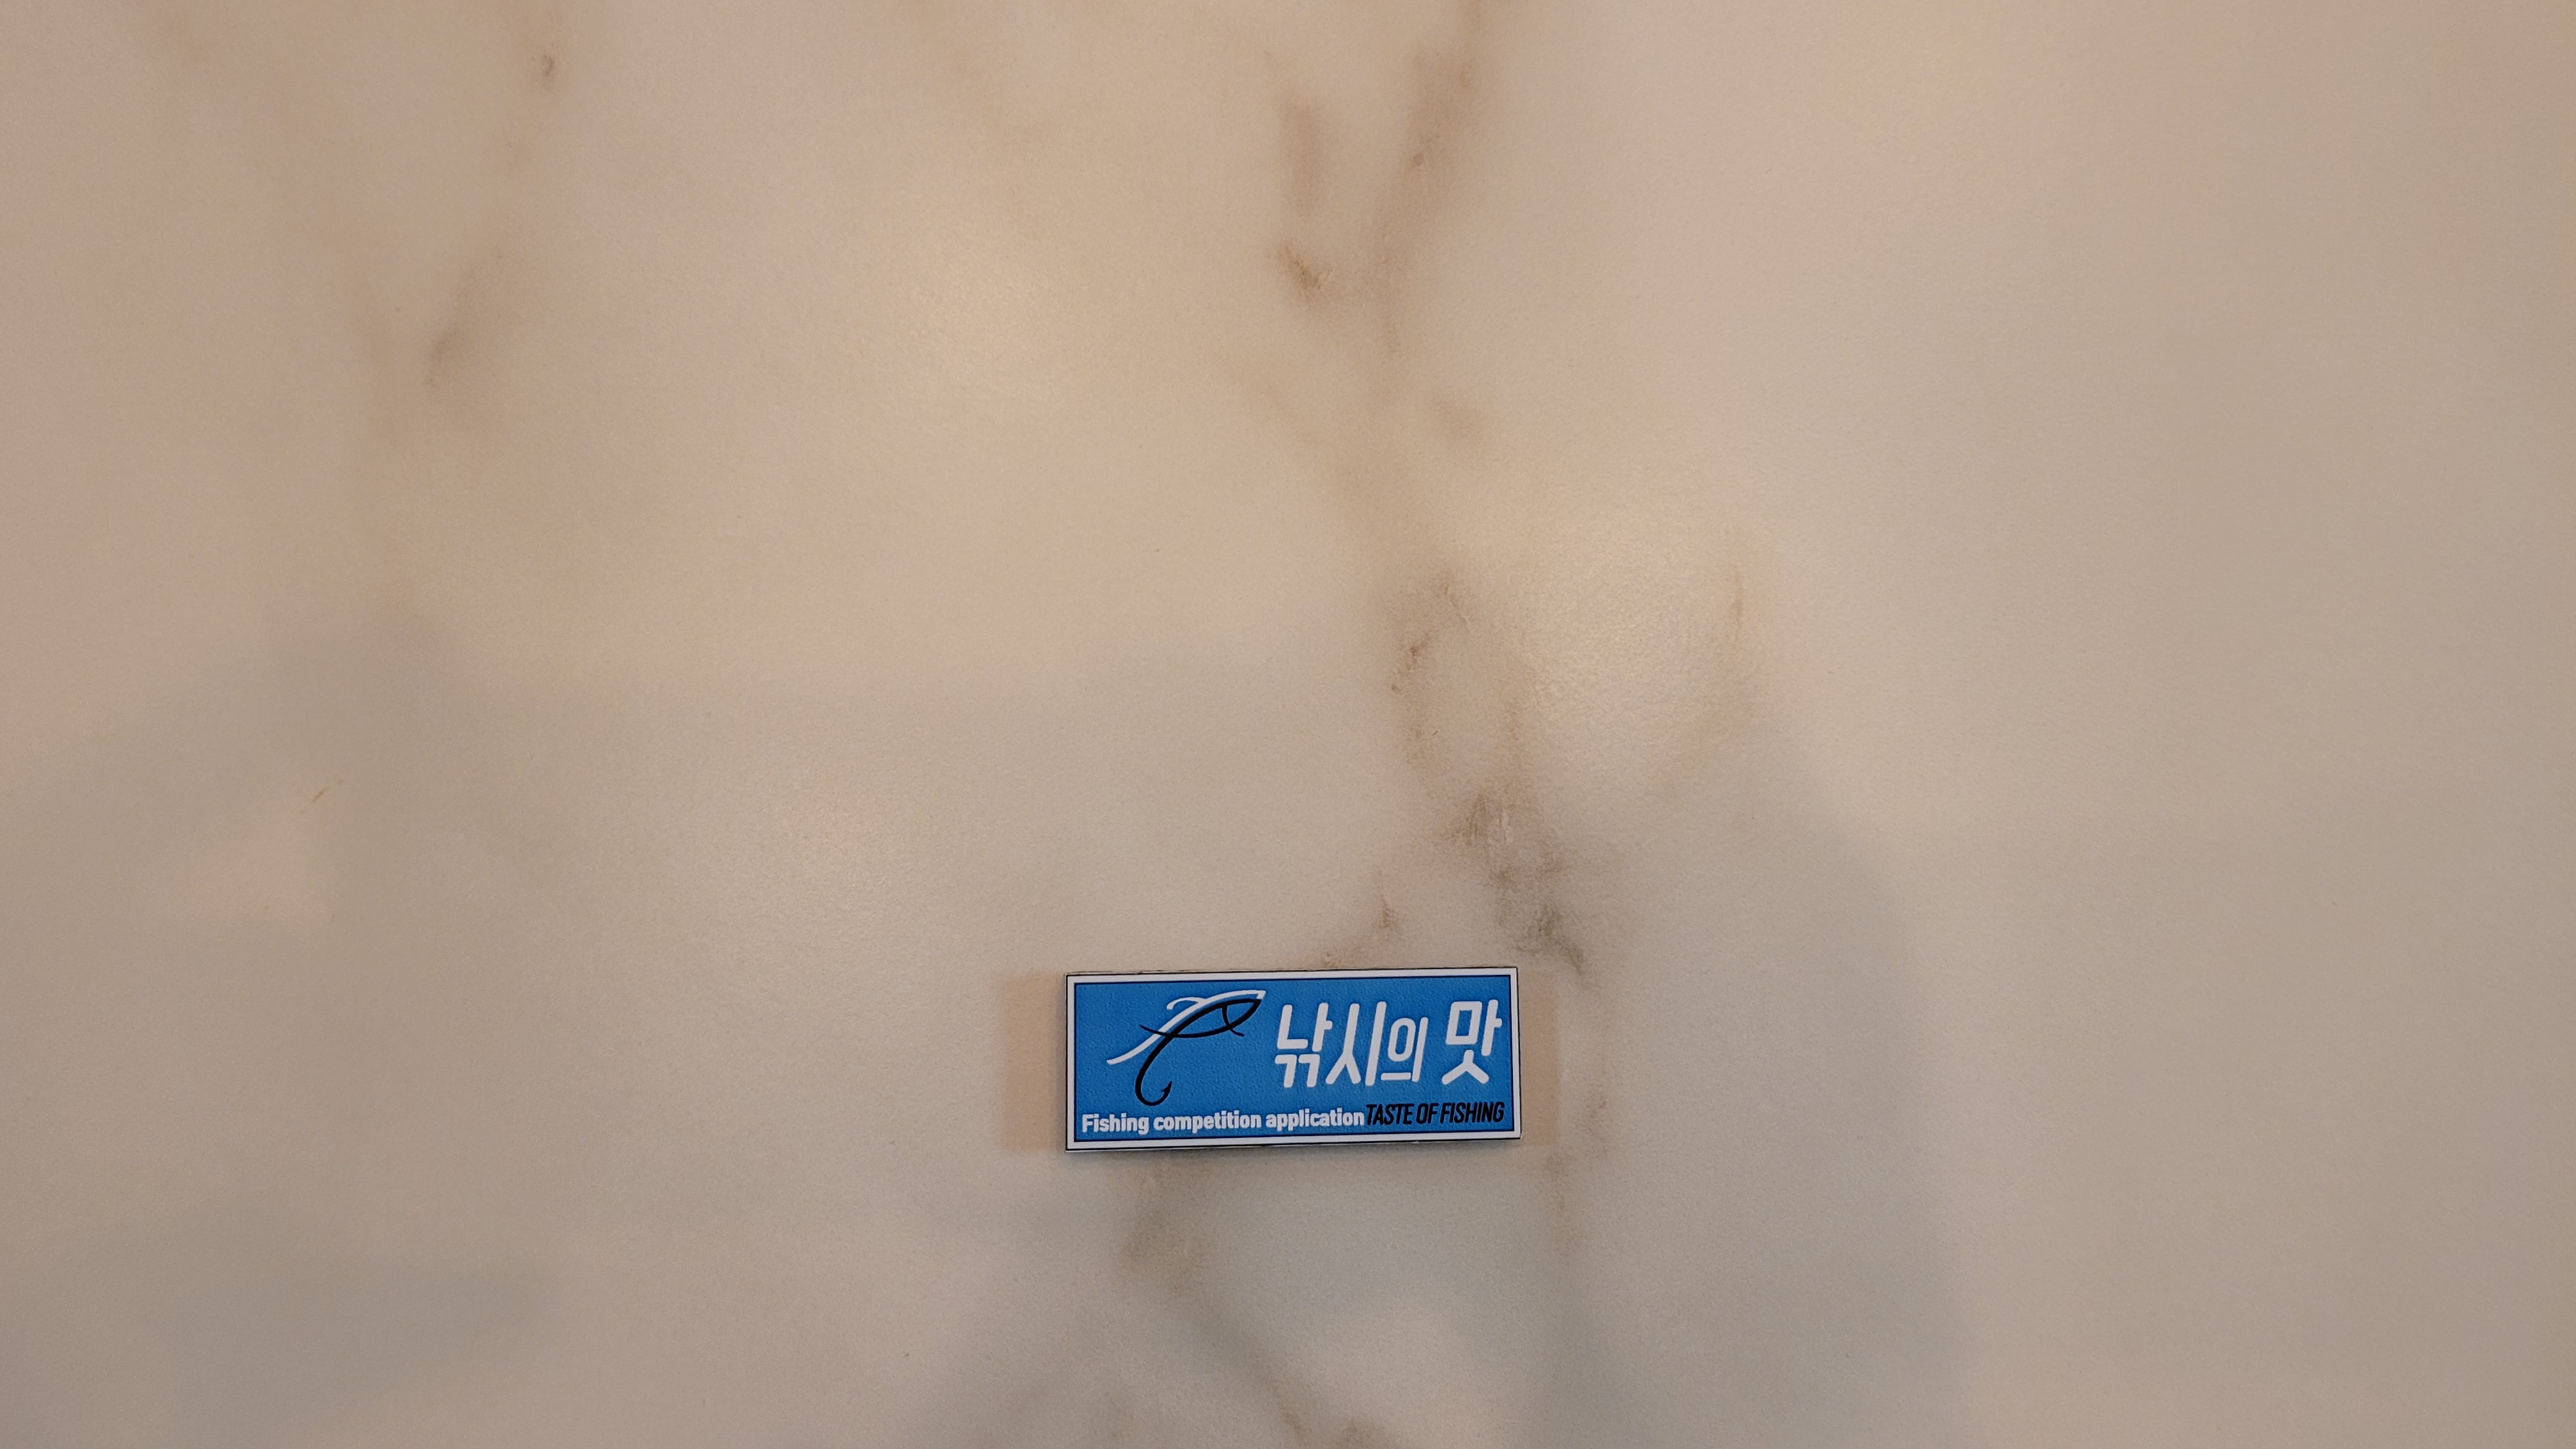tag: (1067, 971, 1520, 1141)
